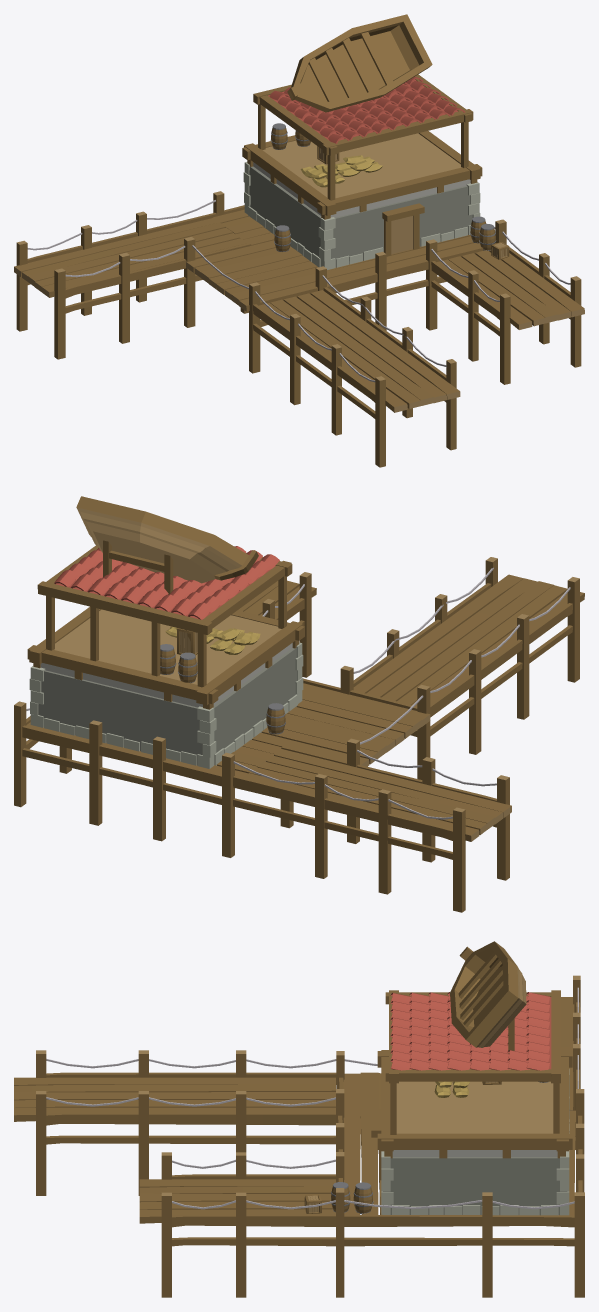
The model's file is Port_SecondAge_Level3.glb.
The picture shows the model from 3 angles, top to bottom: view 1: azimuth 30°, elevation 25°; view 2: azimuth 150°, elevation 25°; view 3: azimuth 270°, elevation 25°; orthographic projection. The views are drawn at different scales.
Visible parts, largest first — view 1: Port_SecondAge_Level3; view 2: Port_SecondAge_Level3; view 3: Port_SecondAge_Level3.
Part boxes in pixels (bbox=[...]): Port_SecondAge_Level3: bbox=[14, 14, 584, 467]; Port_SecondAge_Level3: bbox=[14, 496, 584, 912]; Port_SecondAge_Level3: bbox=[14, 941, 584, 1297].
Size of the model in its own units: 2.66 by 1.63 by 2.88.
Materials: 1 (1 with a texture image).
